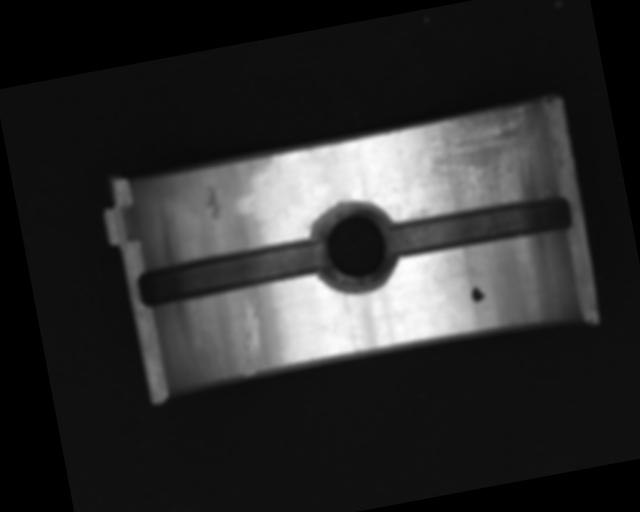blot: (469, 284, 487, 305)
bruise: (200, 182, 227, 223)
gap: (135, 234, 329, 311), (382, 190, 574, 262)
hole: (307, 195, 405, 298)
nick: (230, 296, 269, 376)
scratch: (413, 99, 556, 215)
